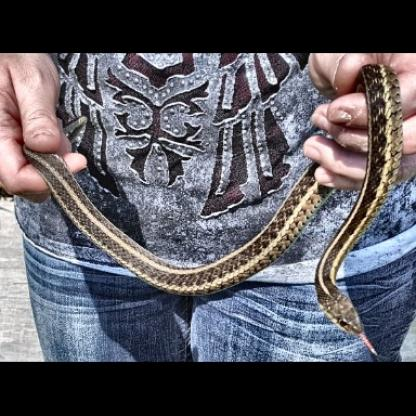Snake: (50, 159, 375, 344)
